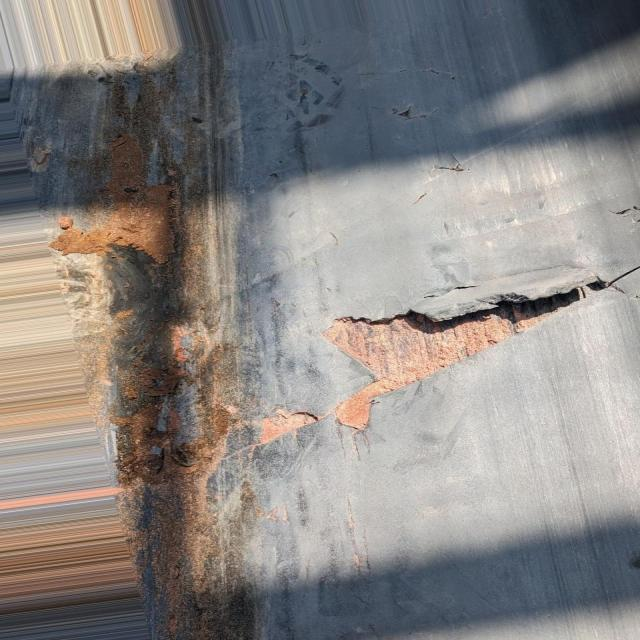Tear: (237, 247, 640, 453), (393, 65, 463, 82), (429, 152, 475, 174), (388, 105, 442, 123)
